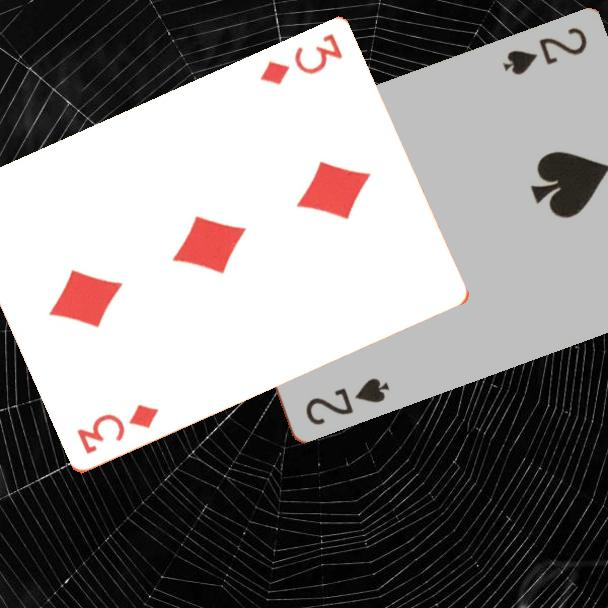d03: (256, 30, 345, 89), (73, 401, 162, 458)
s02: (301, 374, 393, 429), (499, 24, 590, 79)
